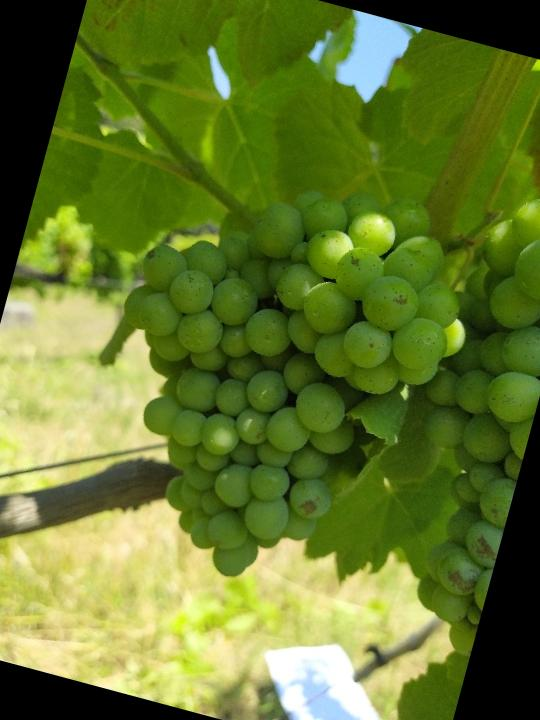grape: (58, 131, 497, 627)
